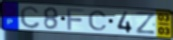4: (116, 10, 134, 34)
8: (43, 6, 60, 30)
C: (19, 5, 42, 30), (88, 10, 109, 32)
F: (66, 8, 86, 32)
Z: (135, 10, 157, 35)
